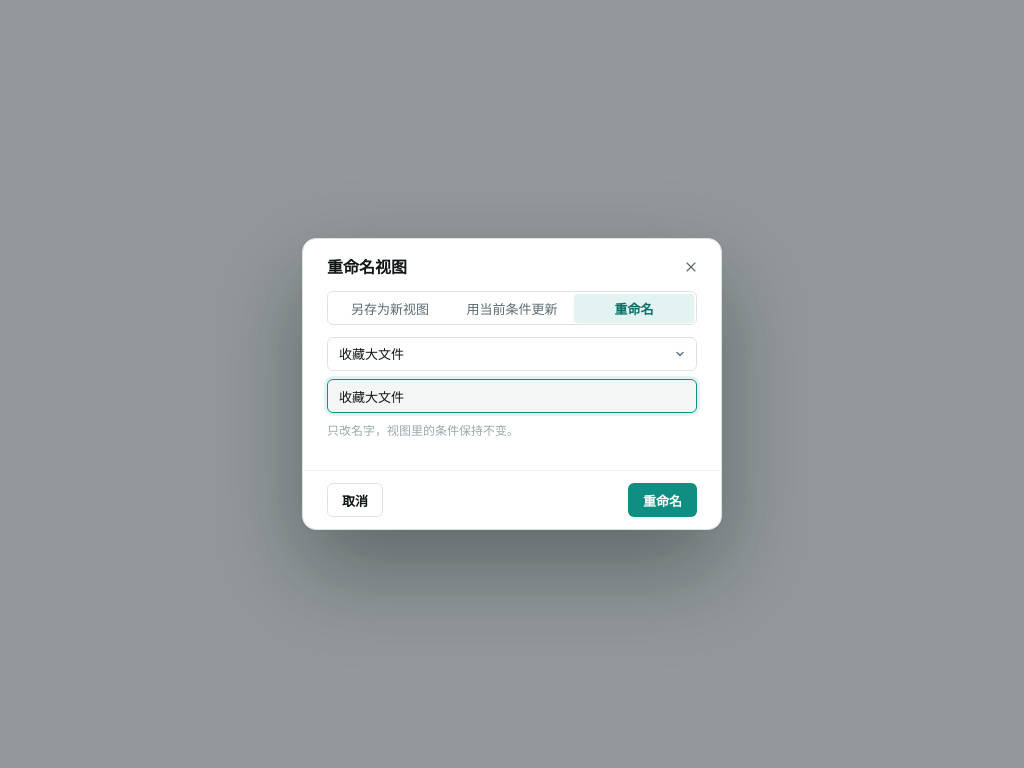
Test: 保存视图弹窗（D-PC35） › META-07 重名时说人话，弹窗留着可以改
Step 1. Replace the text in the field with test id "save-view-name" with "张三" → (512, 396), box [327,379,697,413]
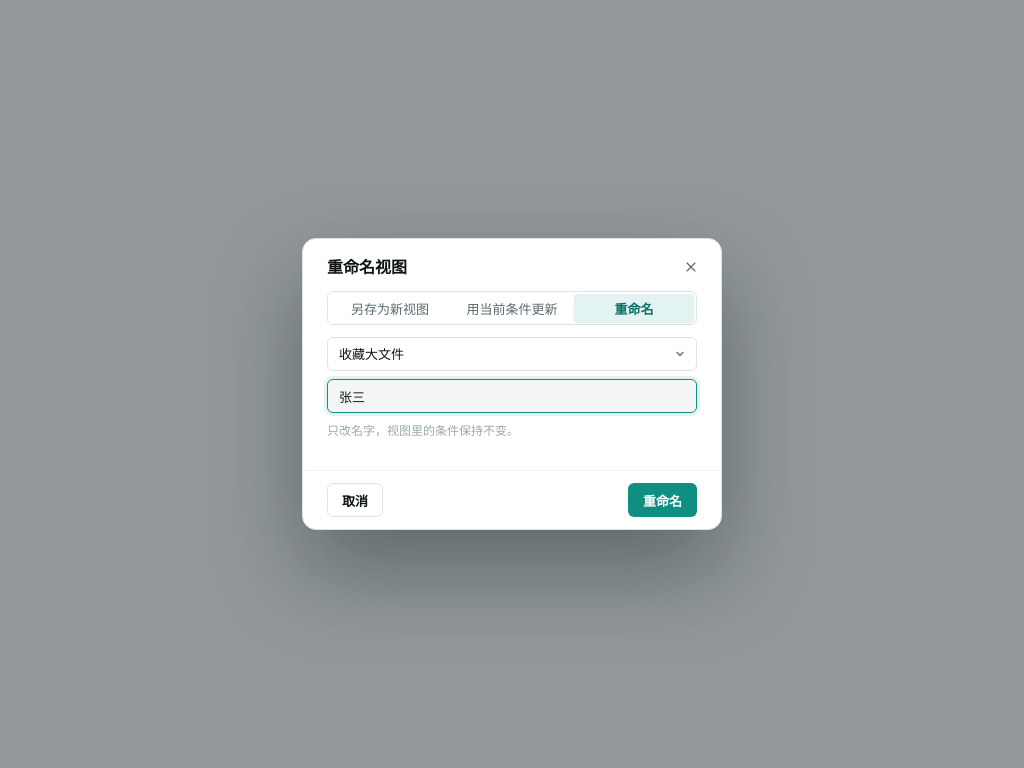
Step 2. Click the button with test id "save-view-submit" → (662, 500), box [628,483,697,517]
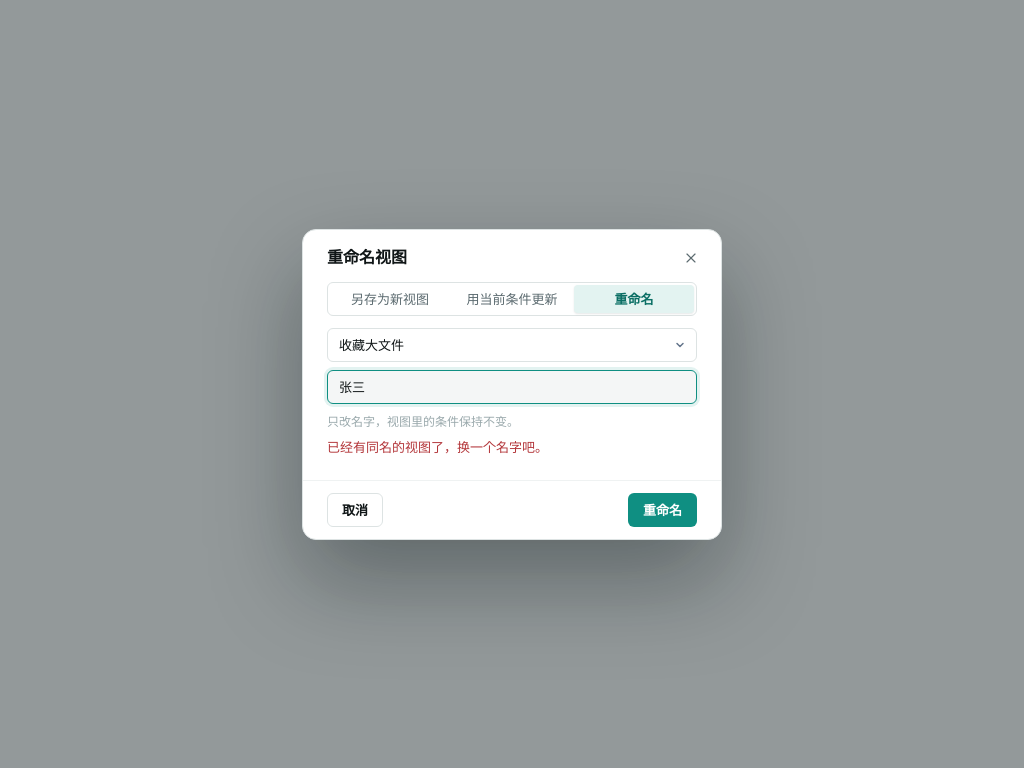
Expected: the message "已经有同名的视图了，换一个名字吧。" is shown, [327,438,548,454]
